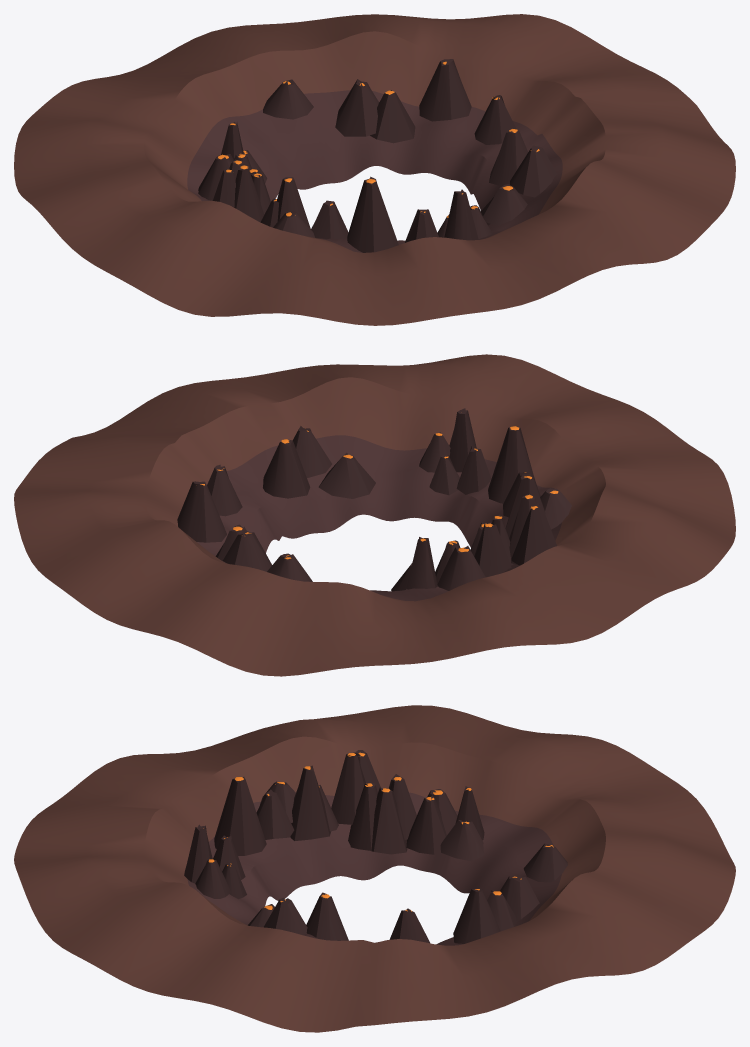
File: Crater_Backdrop.fbx
3 renders of one model, top to bottom at view 1: azimuth 30°, elevation 25°; view 2: azimuth 150°, elevation 25°; view 3: azimuth 270°, elevation 25°, orthographic.
Visible parts, largest first — view 1: Crater_Backdrop; view 2: Crater_Backdrop; view 3: Crater_Backdrop.
Part boxes in pixels (bbox=[...]): Crater_Backdrop: bbox=[14, 14, 735, 325]; Crater_Backdrop: bbox=[14, 354, 735, 676]; Crater_Backdrop: bbox=[14, 705, 735, 1032].
Bounding box in the file's own units: 300 × 53.1 × 300.
